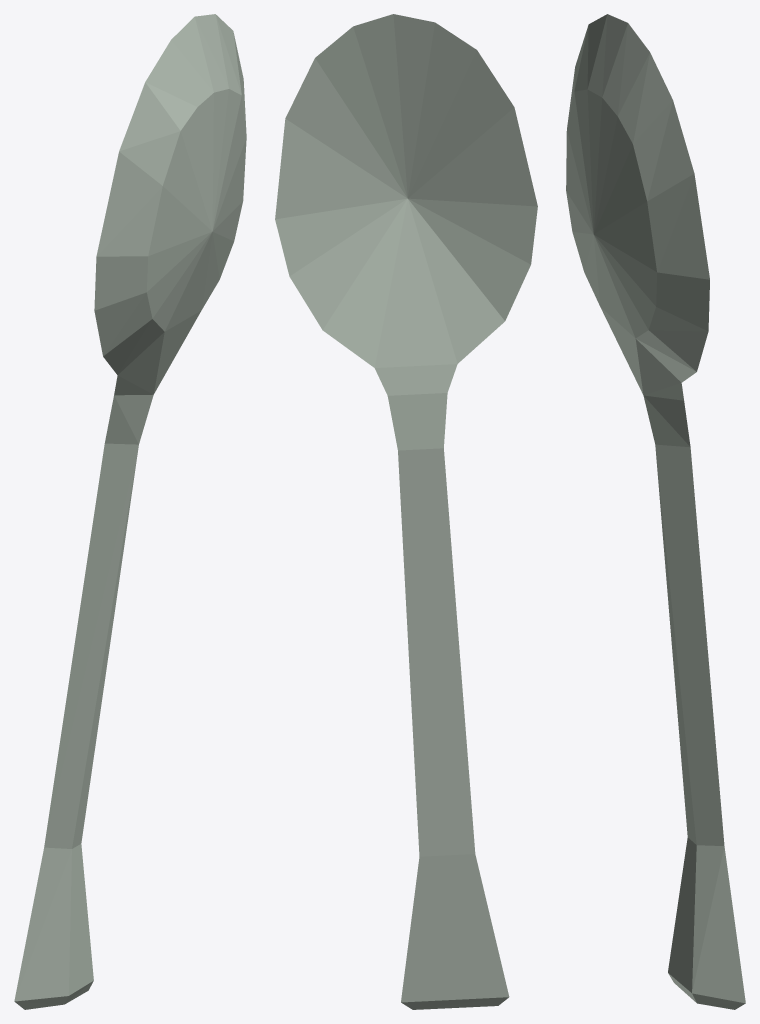
Rendered from BR_Alakazam-Shiny03.obj.
3 renders of one model, left to right at view 1: azimuth 30°, elevation 25°; view 2: azimuth 150°, elevation 25°; view 3: azimuth 270°, elevation 25°, orthographic. The views are drawn at different scales.
Parts seen in each view (by area): view 1: foodin; view 2: foodin; view 3: foodin.
Part boxes in pixels (bbox=[...]): foodin: bbox=[14, 14, 246, 1009]; foodin: bbox=[275, 14, 537, 1009]; foodin: bbox=[566, 14, 745, 1009].
Size of the model in its own units: 1.43 by 5.74 by 0.9136.
Materials: 1 (1 with a texture image).
